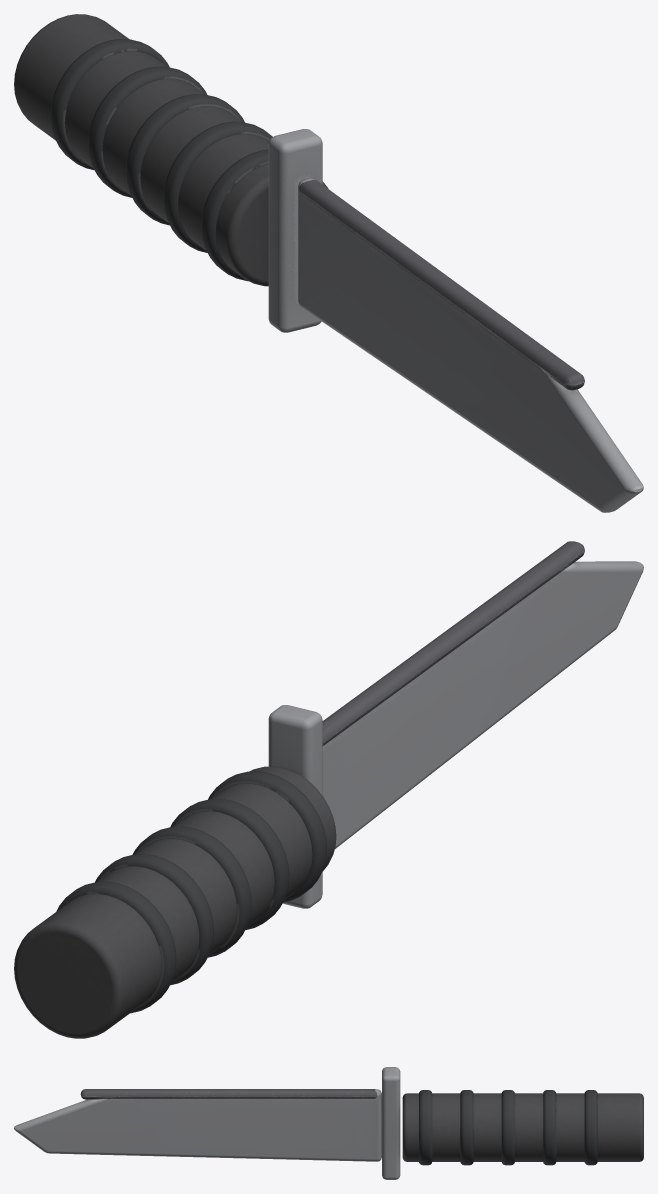
The model's file is knife.fbx.
3 renders of one model, top to bottom at view 1: azimuth 30°, elevation 25°; view 2: azimuth 150°, elevation 25°; view 3: azimuth 270°, elevation 25°, orthographic. The views are drawn at different scales.
Parts seen in each view (by area): view 1: knife; view 2: knife; view 3: knife.
Part boxes in pixels (bbox=[...]): knife: bbox=[14, 14, 643, 512]; knife: bbox=[14, 541, 643, 1038]; knife: bbox=[14, 1067, 643, 1179].
Size of the model in its own units: 0.033 by 0.05 by 0.2741.
